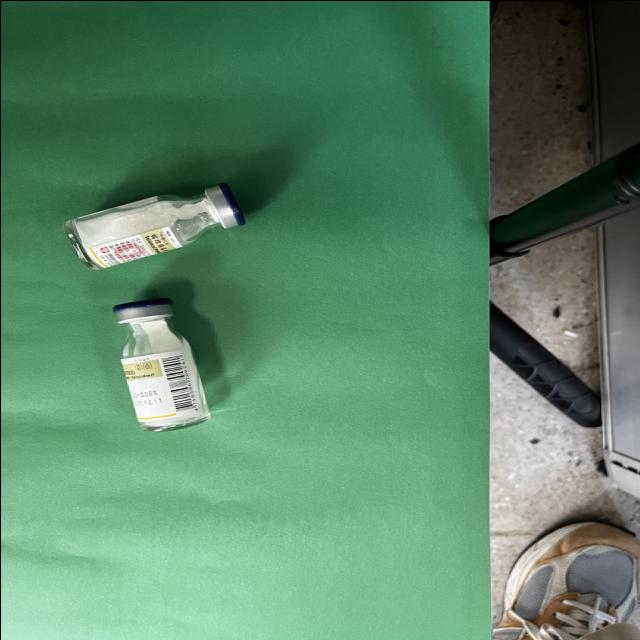Vials: (61, 182, 245, 269), (111, 296, 209, 430)
